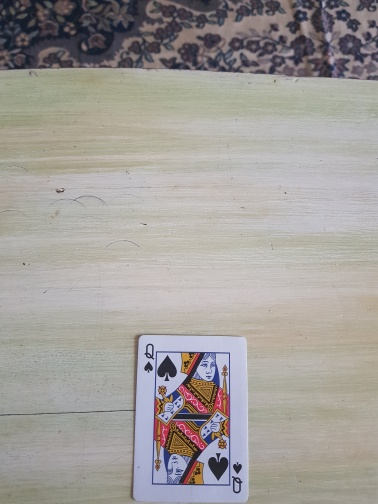queen: (130, 335, 251, 504)
